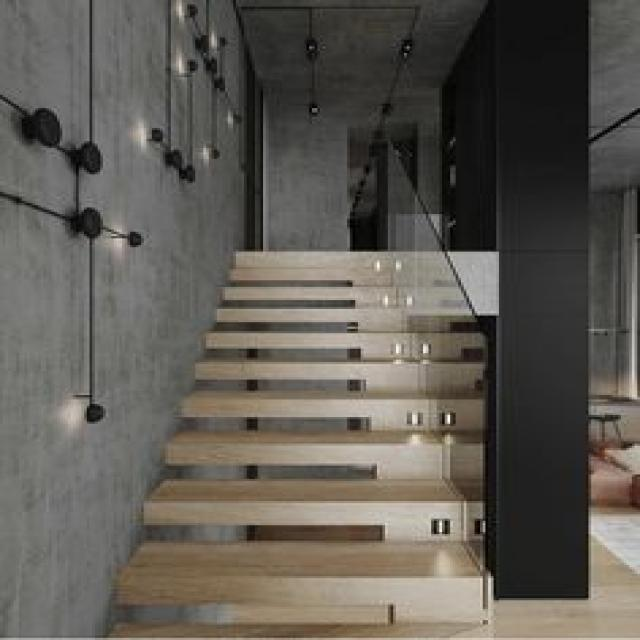stairs: (100, 247, 493, 638)
